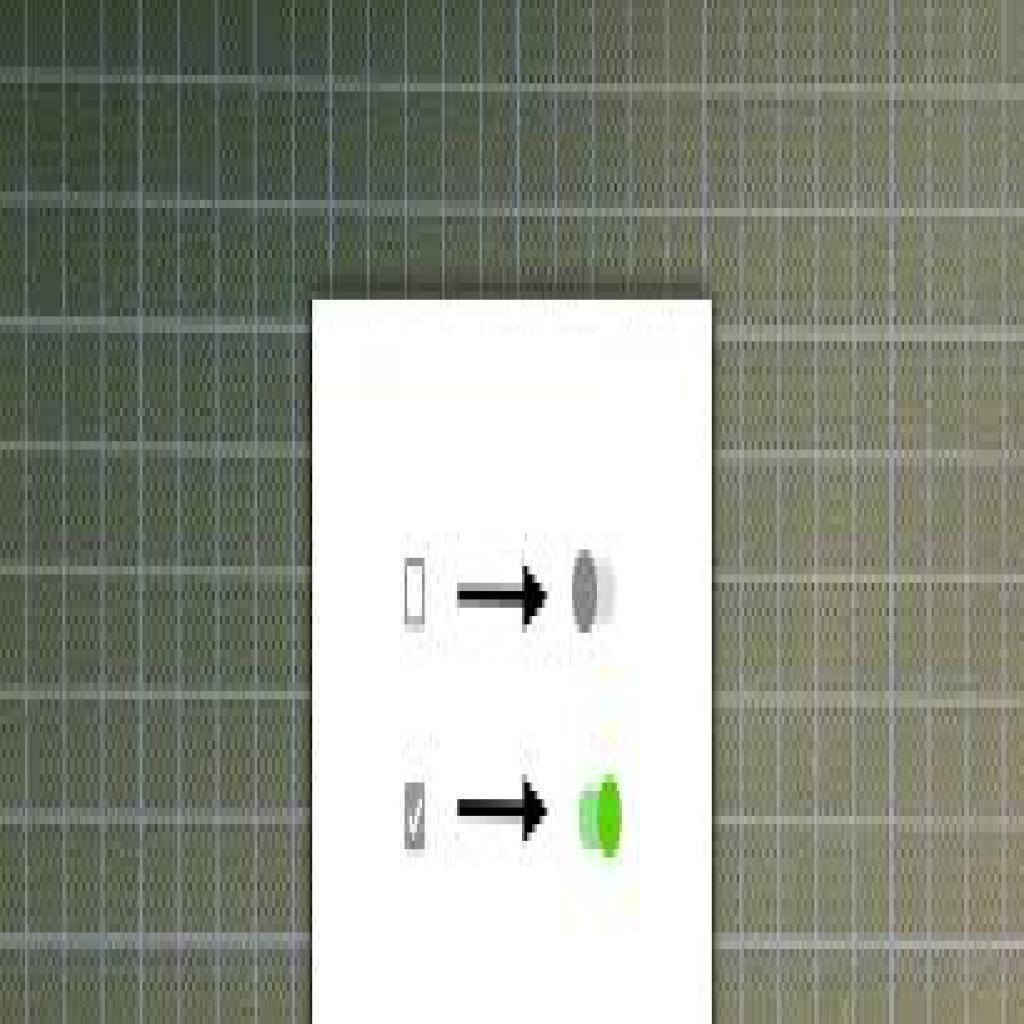checkbox: (403, 780, 428, 851), (405, 557, 428, 629)
switch: (571, 548, 620, 637), (580, 773, 624, 861)
